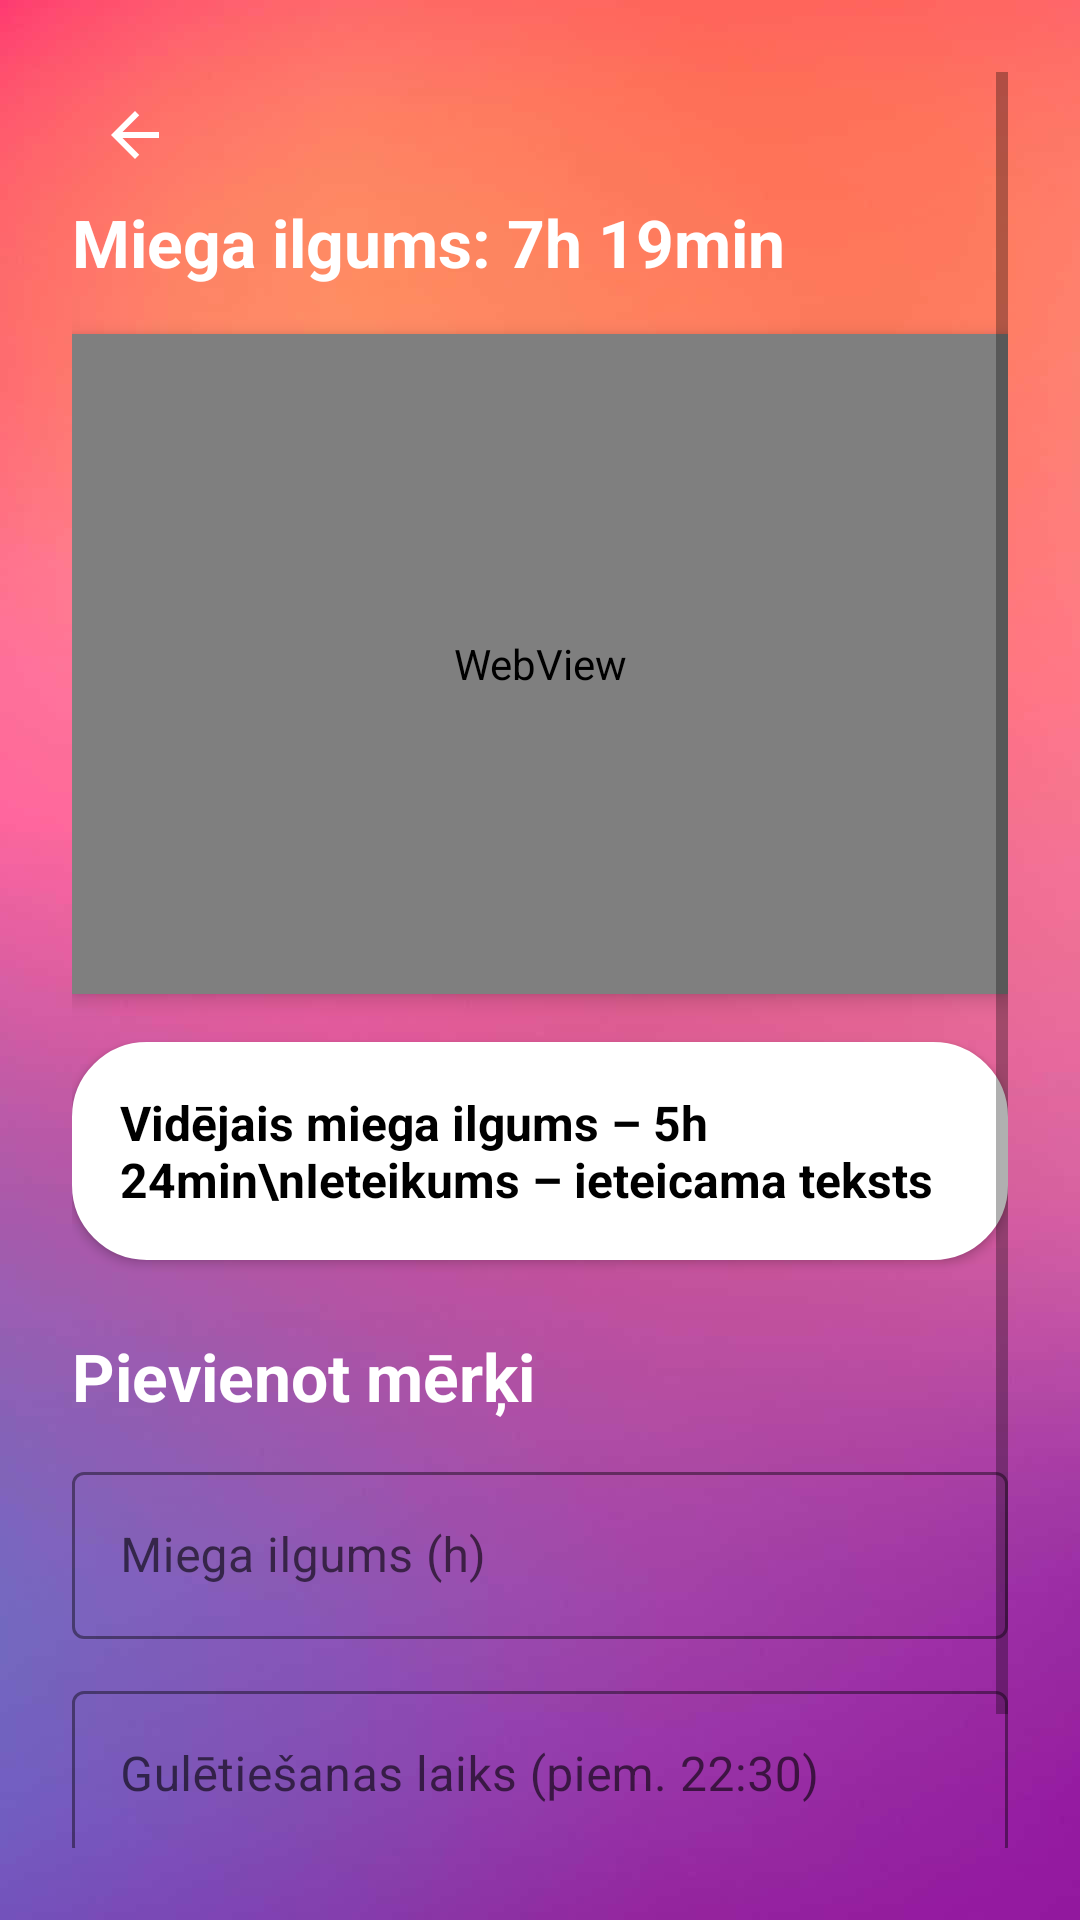

Screen size 1080px x 1920px. Icon name, then its box in pixels as {"left": x1, "top": y1, "right": x2, "bottom": y2}:
Back: {"left": 111, "top": 111, "right": 159, "bottom": 159}
